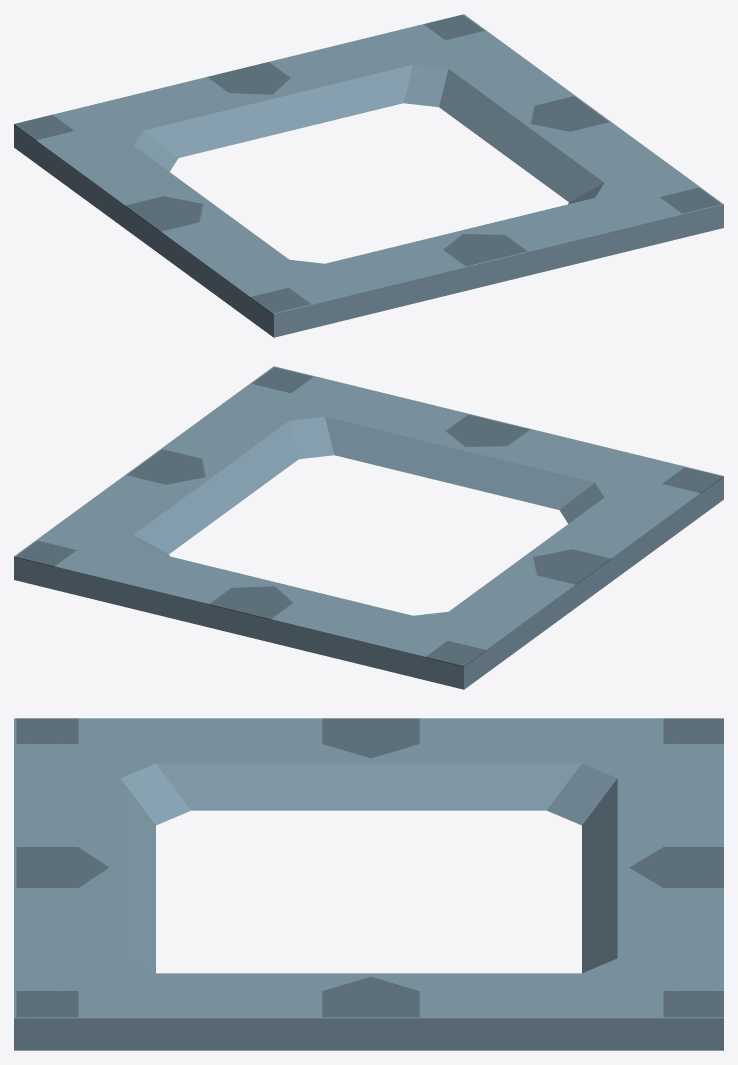
Rendered from BigPoint3.fbx.
The picture shows the model from 3 angles, top to bottom: view 1: azimuth 30°, elevation 25°; view 2: azimuth 150°, elevation 25°; view 3: azimuth 270°, elevation 25°; orthographic projection. The views are drawn at different scales.
Visible parts, largest first — view 1: Model; view 2: Model; view 3: Model.
Part boxes in pixels (left/top/right/bottom): Model: left=14, top=14, right=723, bottom=337; Model: left=14, top=366, right=723, bottom=689; Model: left=14, top=718, right=723, bottom=1050.
Size of what is drawn, in the model's own units: 2000 by 100 by 2000.
Materials: 1 (1 with a texture image).
